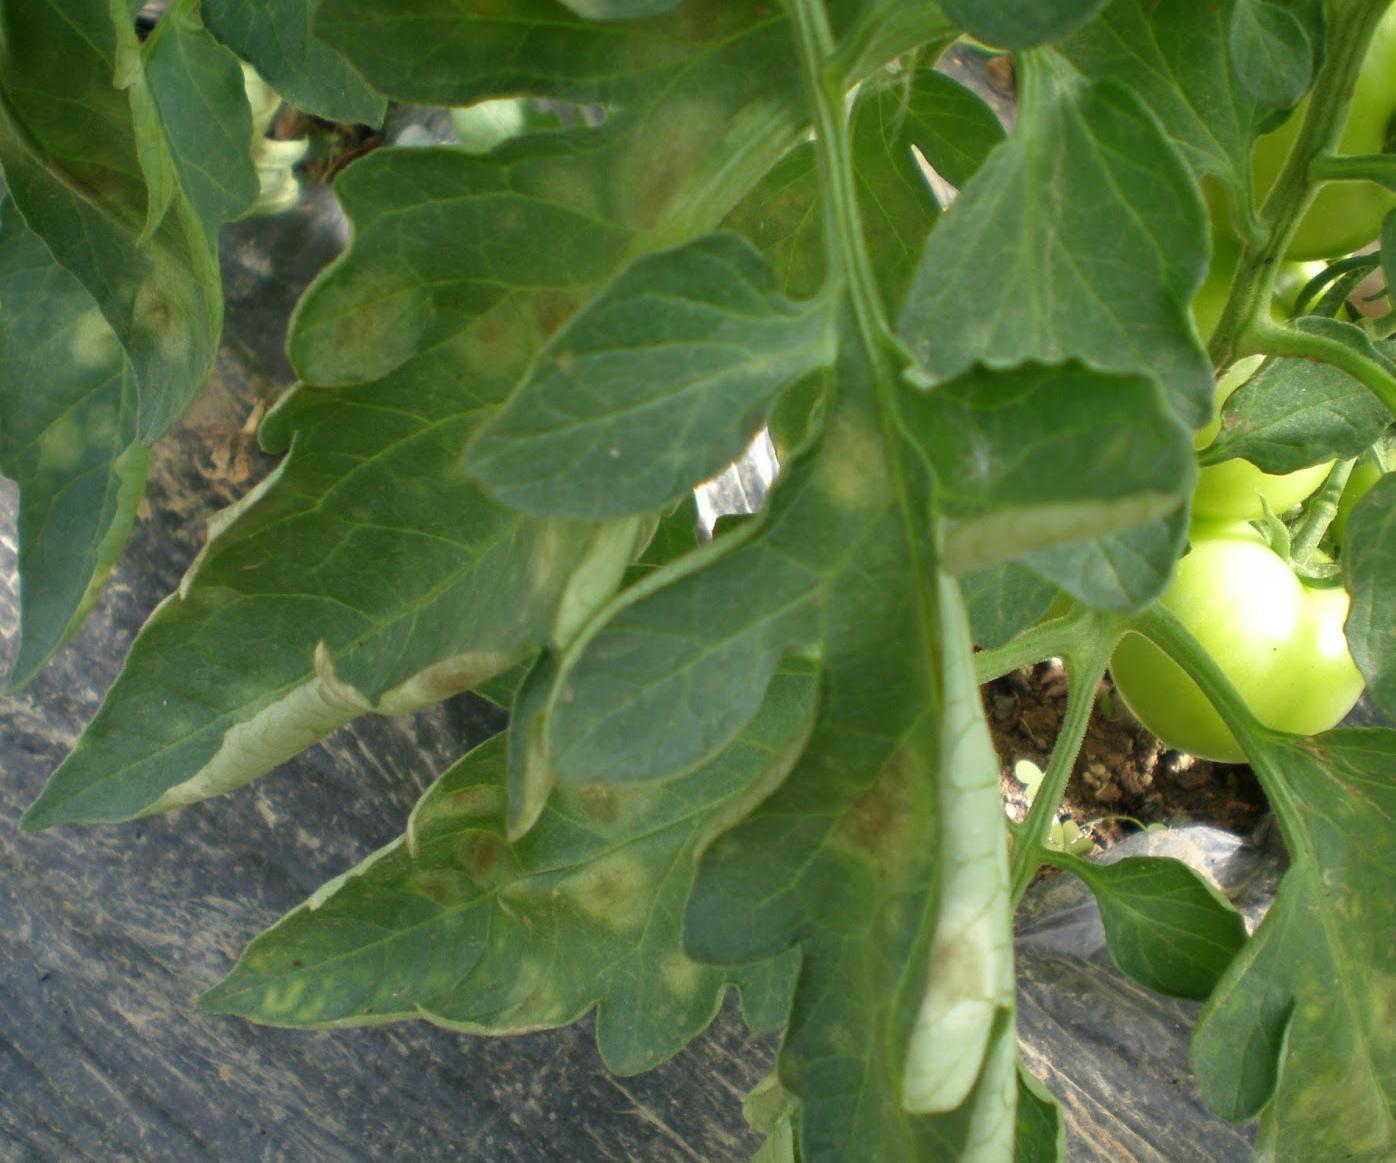Tomato mold leaf: (43, 41, 865, 828), (228, 592, 788, 1066), (716, 448, 1028, 1163), (0, 0, 247, 686), (892, 43, 1225, 407), (1191, 706, 1396, 1163)
